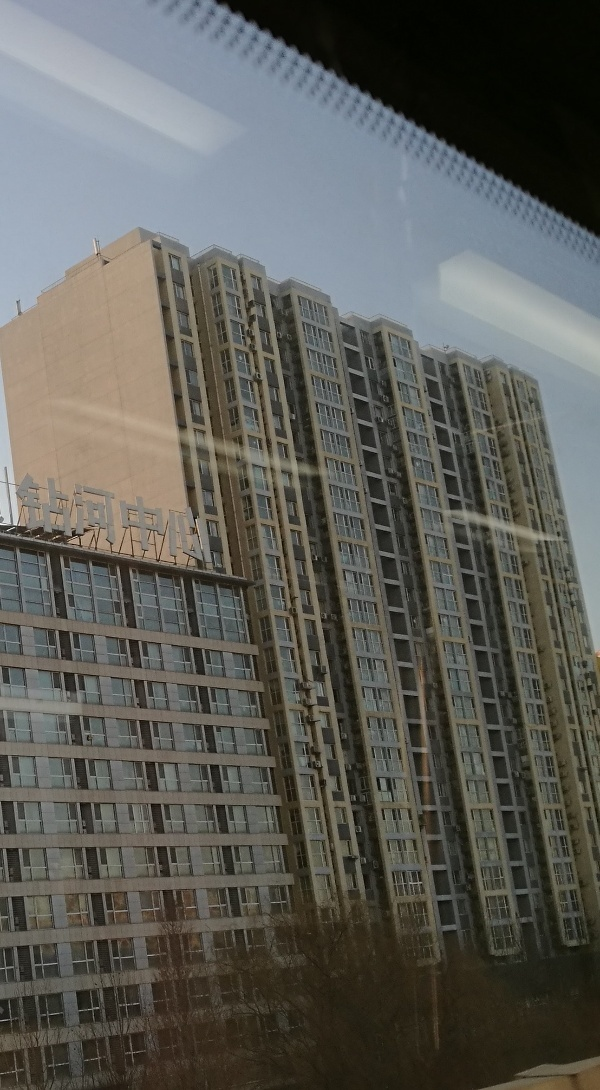text: (17, 471, 32, 570), (33, 471, 48, 570), (49, 471, 64, 570), (65, 471, 80, 570), (81, 471, 96, 570), (97, 471, 112, 570), (113, 471, 128, 570), (129, 471, 144, 570), (145, 471, 160, 570), (161, 471, 176, 570), (177, 471, 192, 570), (193, 471, 208, 570), (209, 471, 216, 570), (14, 471, 16, 570)
